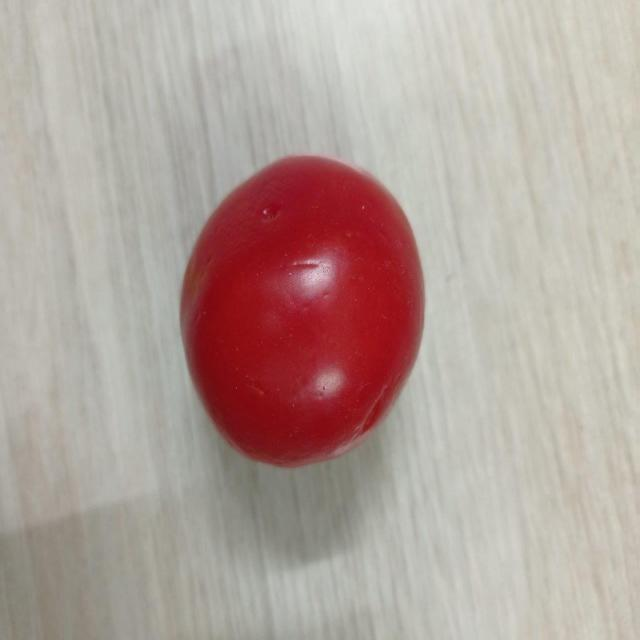Tomato: (176, 149, 429, 473)
